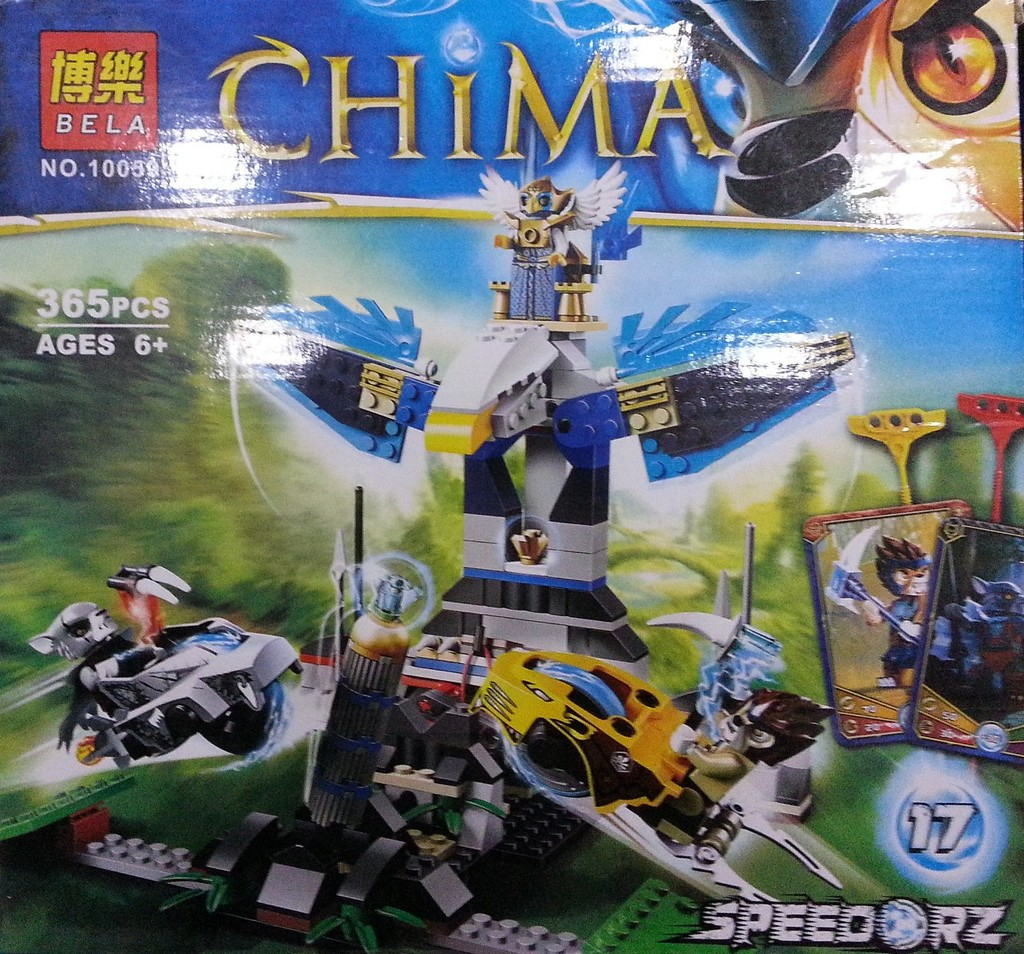Motorcycle: (78, 621, 306, 773)
